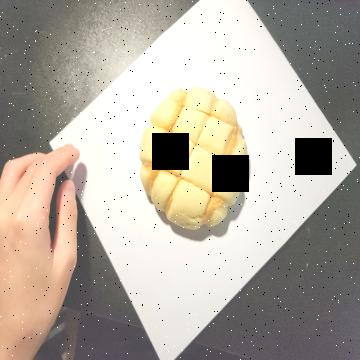melon_bread: (138, 89, 247, 228)
